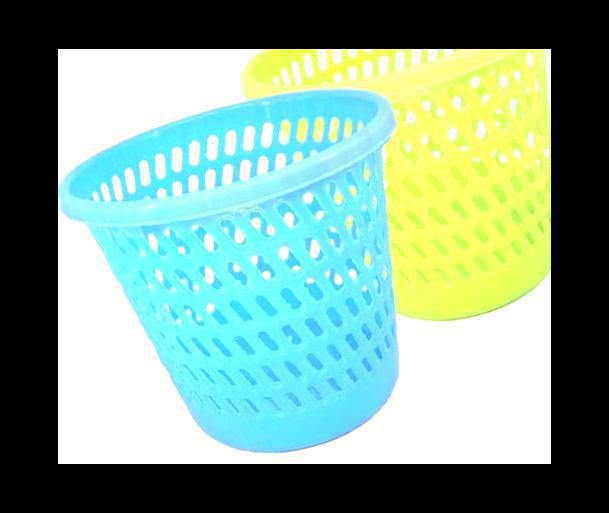Bote de Basura: (58, 88, 397, 454), (256, 49, 551, 327)
